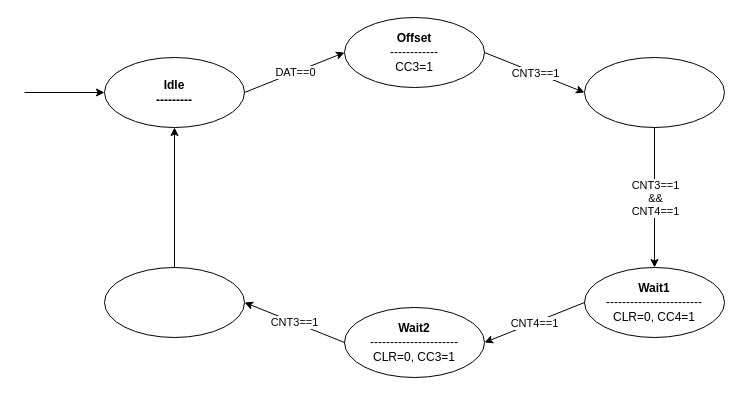
This 742x395 diagram has some shape labels left out. Here are the shapes that lost their labels. From the top down, the centre of each, then its label:
At pixel 654 92: "Rds ---------------------------- CC3=1, CC4=1 RD=1, CLR=0".
At pixel 174 302: "Valid ---------------------- VLD=1, CLR=0".
